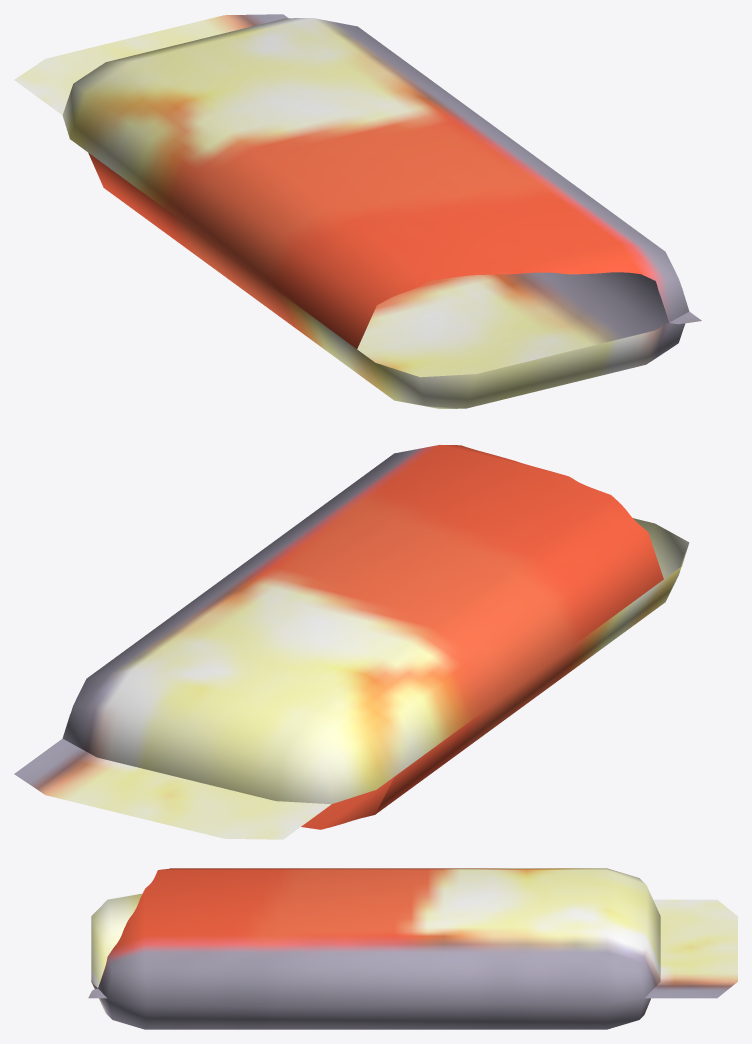
The model's file is Candy Bear.fbx.
3 views of the same model, one above another, from view 1: azimuth 30°, elevation 25°; view 2: azimuth 150°, elevation 25°; view 3: azimuth 270°, elevation 25° (orthographic). The views are drawn at different scales.
Visible parts, largest first — view 1: Candy Bear; view 2: Candy Bear; view 3: Candy Bear.
Part boxes in pixels (x1,y1,x2,y2): Candy Bear: (14, 14, 701, 408); Candy Bear: (14, 445, 689, 839); Candy Bear: (88, 868, 737, 1029).
Bounding box in the file's own units: 9.43 × 3.59 × 25.69.
